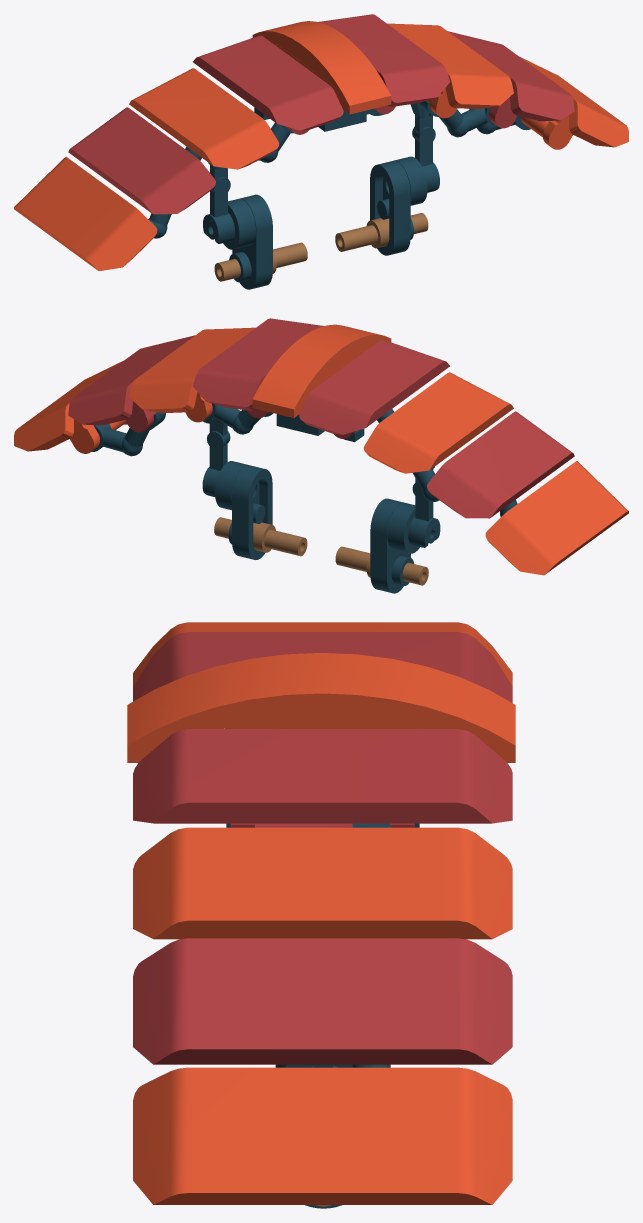
Rendered from lego_fortnite_glider.glb.
The picture shows the model from 3 angles, top to bottom: view 1: azimuth 30°, elevation 25°; view 2: azimuth 150°, elevation 25°; view 3: azimuth 270°, elevation 25°; orthographic projection. The views are drawn at different scales.
Visible parts, largest first — view 1: Base (×20); view 2: Base (×21); view 3: Base (×7).
Part boxes in pixels (bbox=[...]): Base (×20): bbox=[14, 14, 628, 289]; Base (×21): bbox=[14, 318, 628, 593]; Base (×7): bbox=[127, 622, 515, 1204].
Size of the model in its own units: 2.71 by 1.1 by 0.8395.
